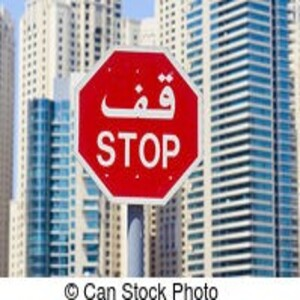stop: (75, 49, 202, 204)
